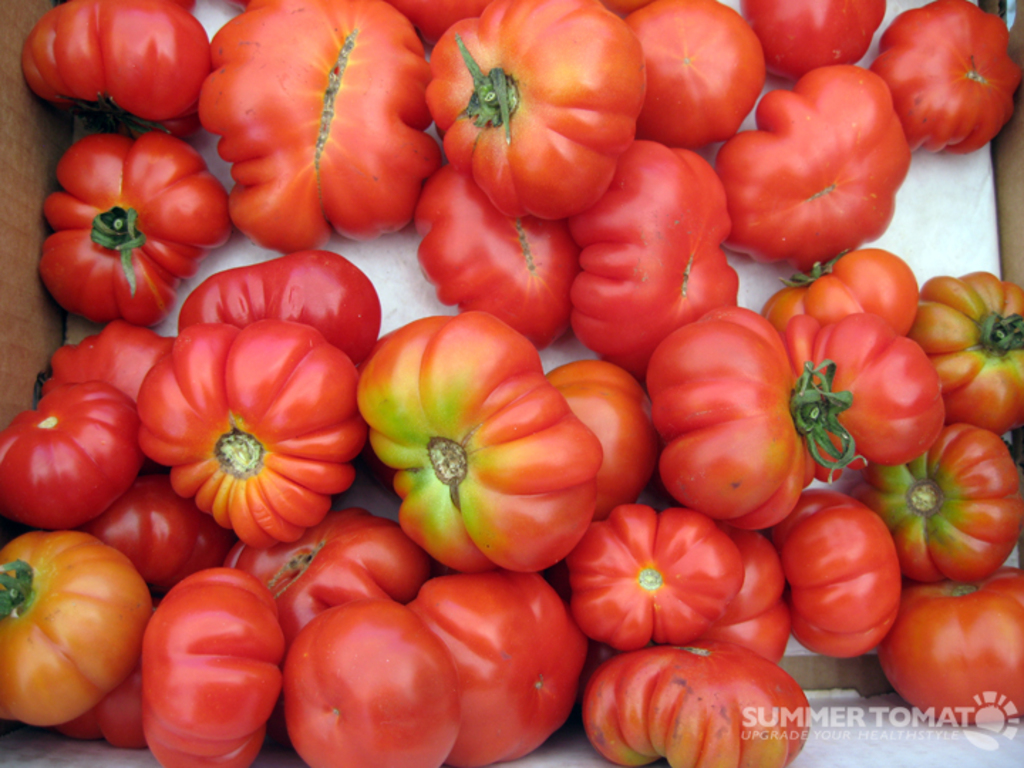Tomato: (351, 310, 603, 576), (206, 0, 442, 251), (132, 317, 371, 550), (426, 0, 647, 220), (647, 310, 857, 531), (712, 58, 913, 270), (567, 137, 740, 372), (35, 135, 226, 331), (403, 564, 580, 759), (408, 162, 580, 348), (783, 305, 952, 486), (224, 490, 429, 639), (283, 594, 459, 766), (585, 639, 813, 765), (19, 0, 214, 145), (0, 524, 142, 719), (137, 564, 274, 766), (564, 500, 746, 652), (860, 428, 1022, 590), (866, 0, 1021, 156), (765, 482, 901, 659), (883, 564, 1022, 723), (625, 0, 769, 150), (173, 250, 381, 351), (0, 384, 140, 527), (907, 267, 1022, 430), (92, 470, 226, 593), (547, 358, 657, 502), (763, 244, 921, 328), (742, 0, 893, 81), (45, 318, 177, 388)
